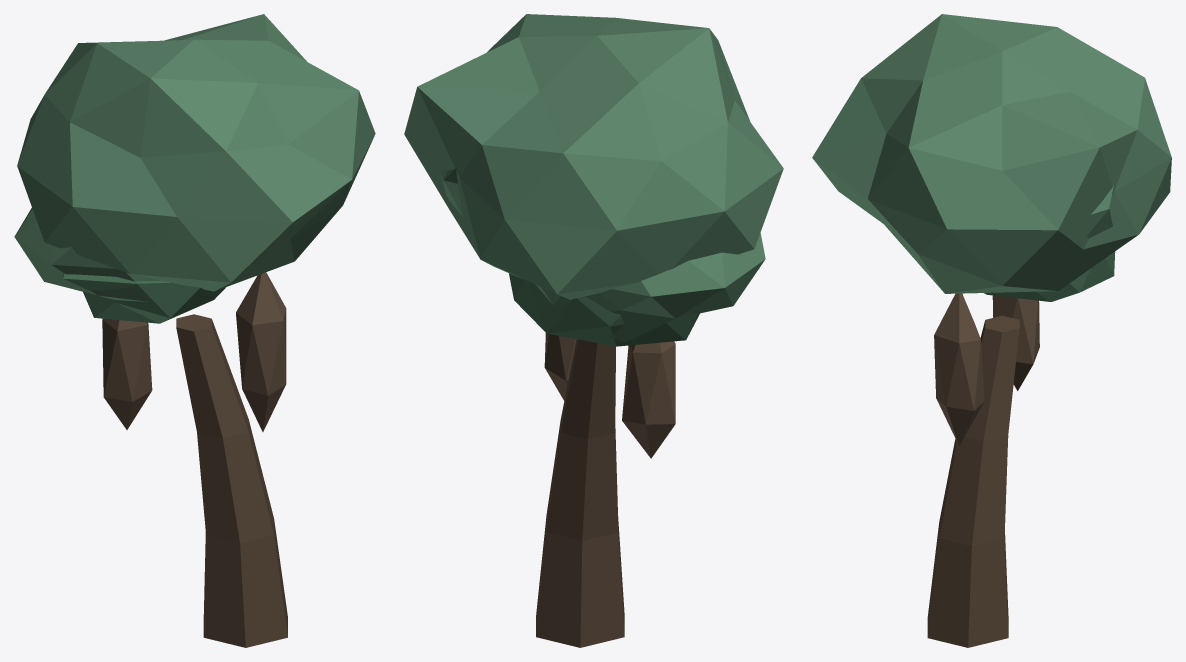
Rendered from tree_alderwood.glb.
3 views of the same model, side by side, from view 1: azimuth 30°, elevation 25°; view 2: azimuth 150°, elevation 25°; view 3: azimuth 270°, elevation 25° (orthographic). The views are drawn at different scales.
Parts seen in each view (by area): view 1: tree_alderwood; view 2: tree_alderwood; view 3: tree_alderwood.
Part boxes in pixels (x1,y1,x2,y2): tree_alderwood: (14,14,375,647); tree_alderwood: (404,14,783,647); tree_alderwood: (812,14,1171,647).
Bounding box in the file's own units: 1.89 × 3.45 × 2.
Materials: 1 (1 with a texture image).
